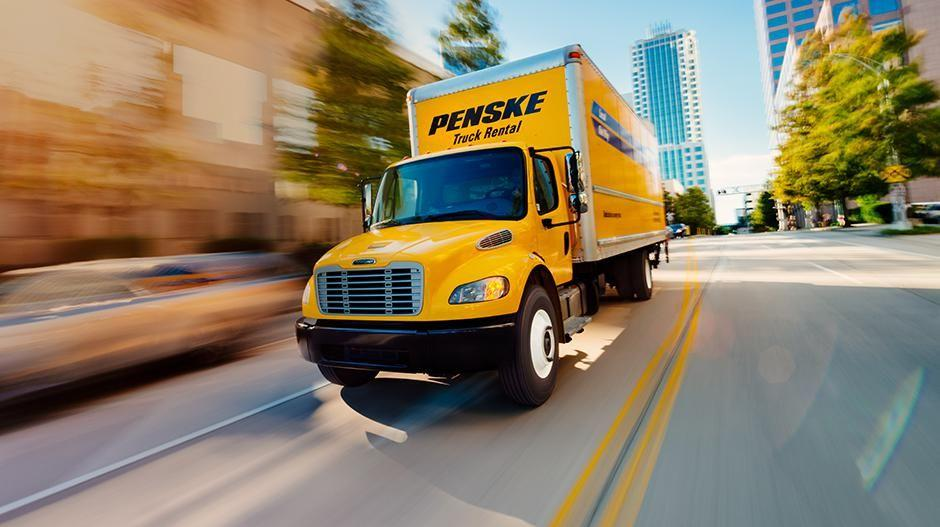truck: (293, 41, 667, 408)
